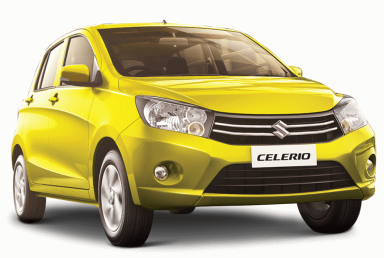car: (12, 20, 376, 247)
